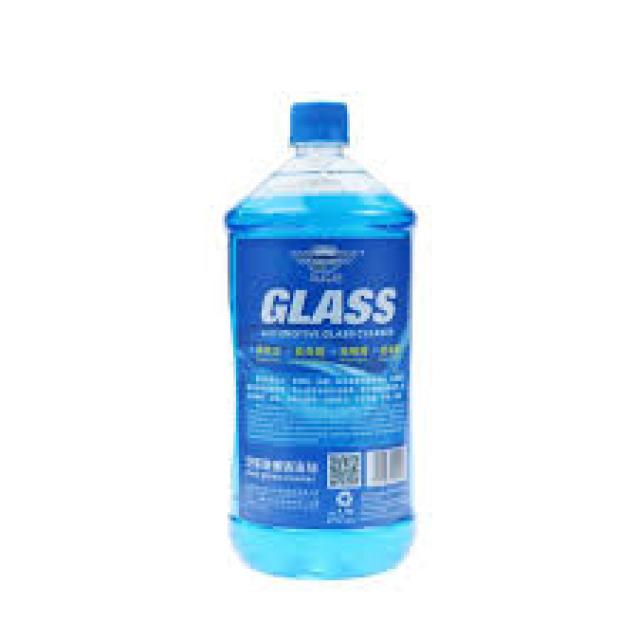winwinshield_washer: (223, 96, 425, 588)
